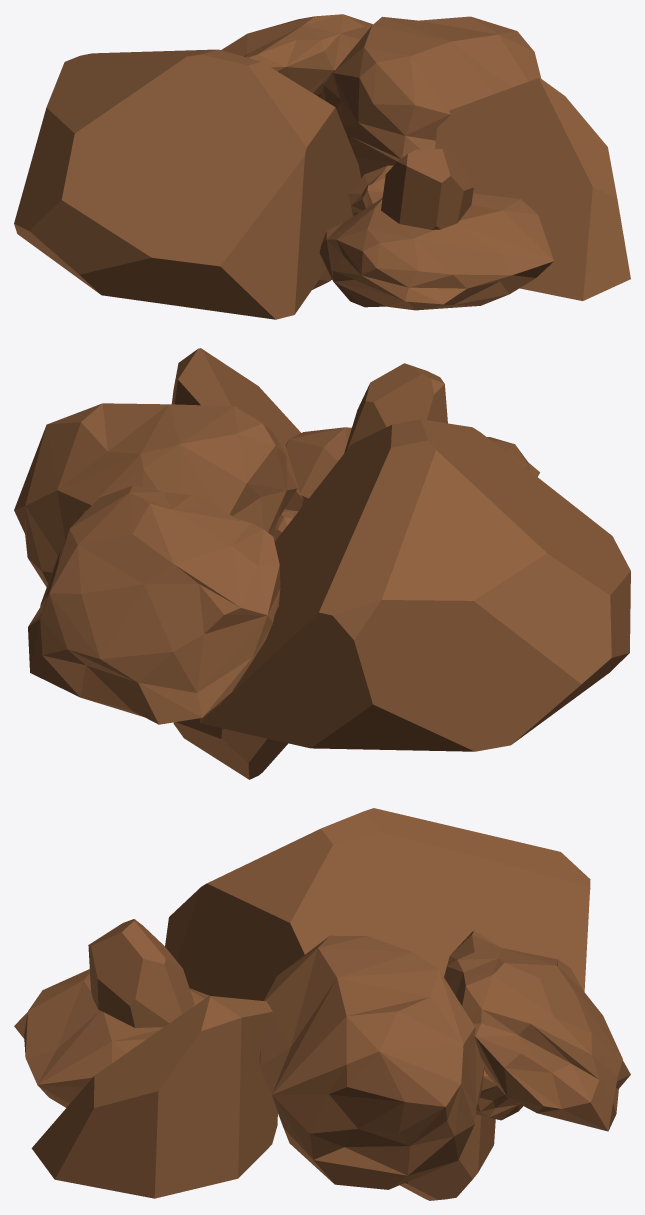
File: OrePile.fbx
The picture shows the model from 3 angles, top to bottom: view 1: azimuth 30°, elevation 25°; view 2: azimuth 150°, elevation 25°; view 3: azimuth 270°, elevation 25°; orthographic projection. The views are drawn at different scales.
Visible parts, largest first — view 1: OrePile; view 2: OrePile; view 3: OrePile.
Boxes of the visible parts, x1,y1,x2,y2 form: OrePile: (14, 14, 630, 319); OrePile: (14, 348, 630, 779); OrePile: (14, 808, 630, 1200).
Bounding box in the file's own units: 159 × 91.24 × 156.
